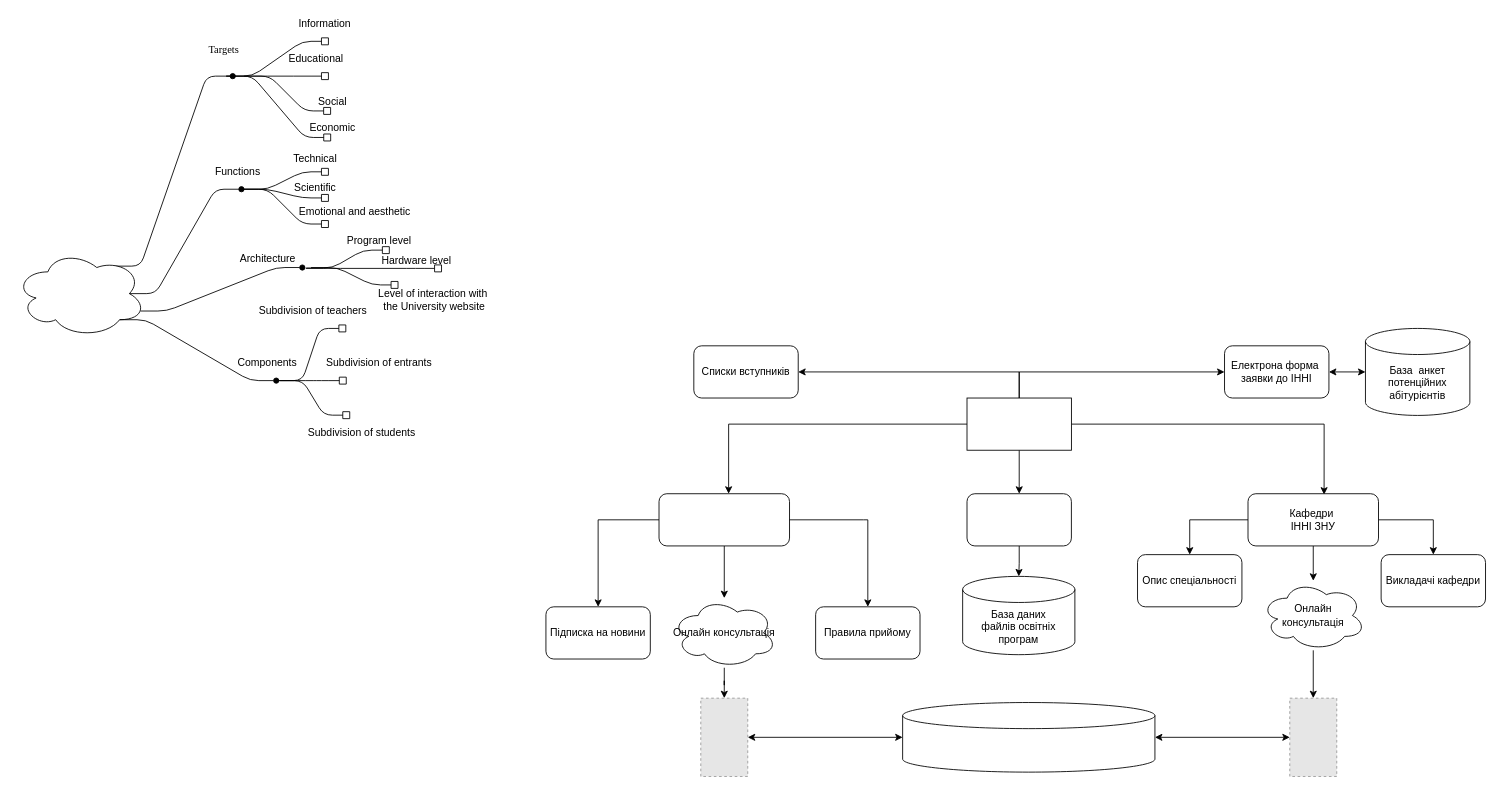
Some shapes in this 1501 by 792 pixel diagram are drawn without their labels. Grey dashed boxes stand in for pictures. Each missing label, with the centre of its shape:
WEB- RESOURCE: the point at 80,293
База знань для персоналізації роботи з абітурієнтом: the point at 1028,737
Головне меню чат-боту: the point at 1018,423
Освітні програми ІННІ ЗНУ: the point at 1018,519
Приймальна комісія ЗНУ: the point at 724,519
